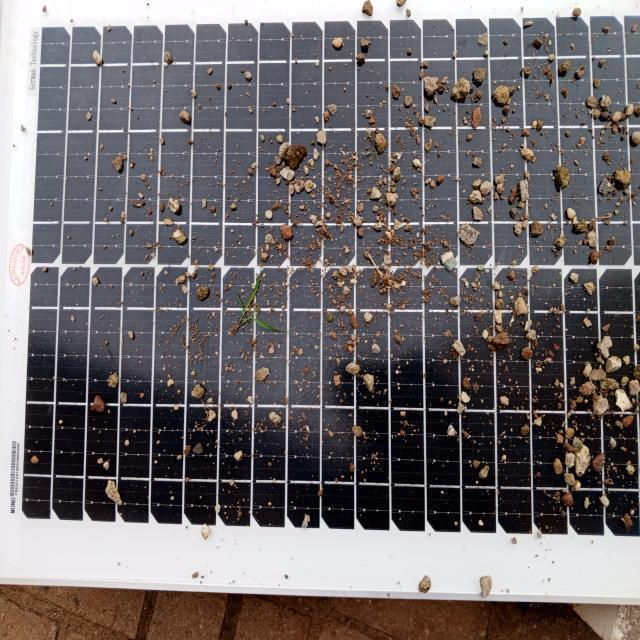Surface Contaminant: (25, 12, 639, 555)
